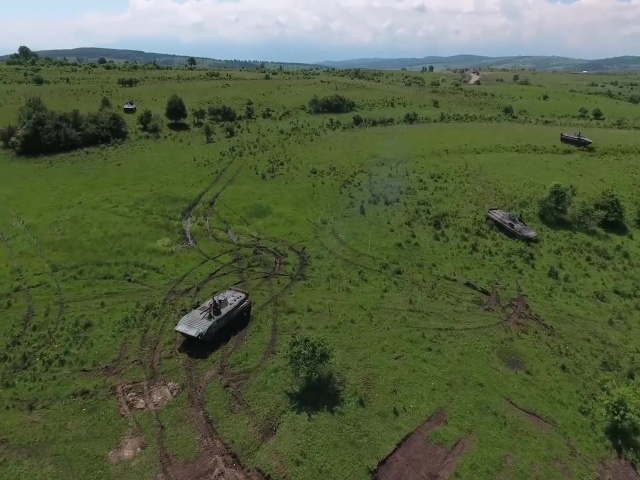vehicle: (173, 288, 253, 342), (485, 206, 539, 243), (559, 131, 593, 148), (123, 98, 136, 114)
